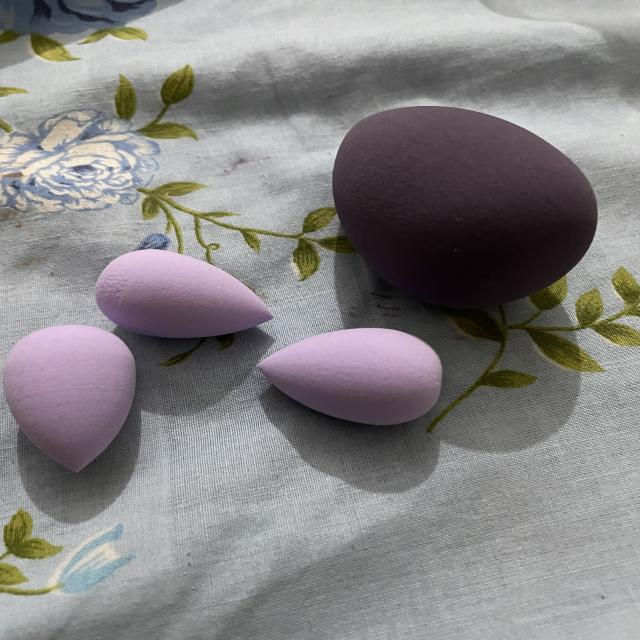beauty blender: (322, 91, 632, 320), (0, 308, 147, 491), (259, 321, 456, 443), (77, 240, 291, 345)
